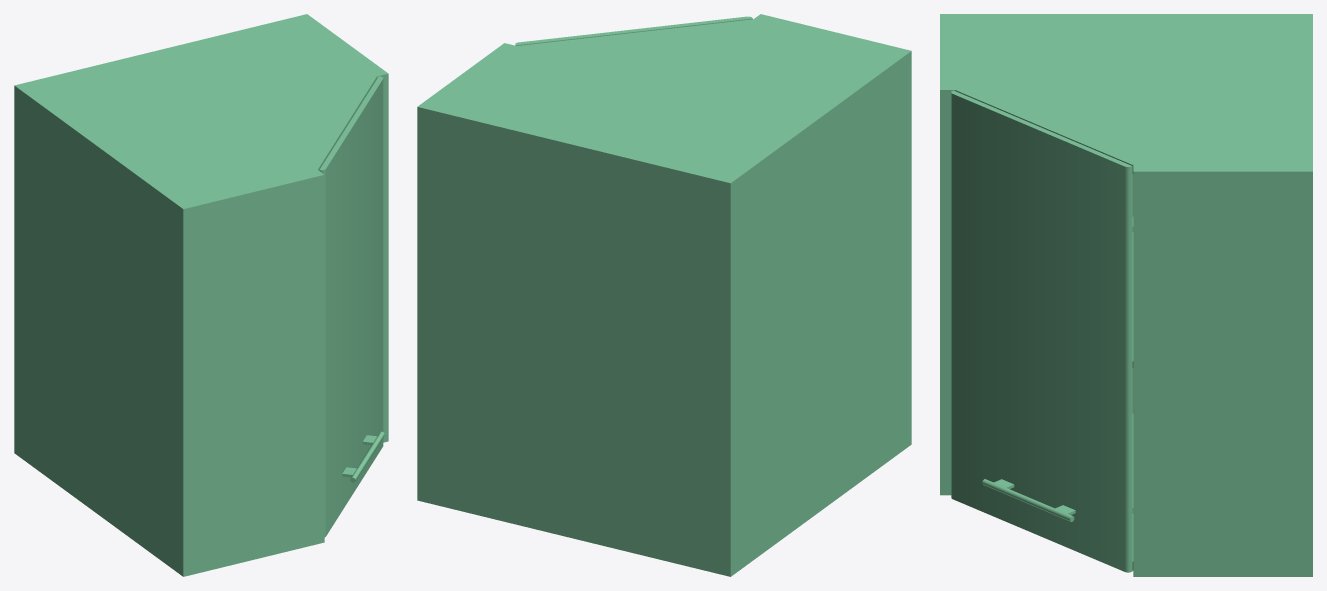
Rendered from hospital_kitchen_module_7.fbx.
3 views of the same model, side by side, from view 1: azimuth 30°, elevation 25°; view 2: azimuth 150°, elevation 25°; view 3: azimuth 270°, elevation 25° (orthographic). The views are drawn at different scales.
Visible parts, largest first — view 1: hospital_kitchen_module_7, hospital_kitchen_module_7_Door; view 2: hospital_kitchen_module_7, hospital_kitchen_module_7_Door; view 3: hospital_kitchen_module_7, hospital_kitchen_module_7_Door.
Part boxes in pixels (<box>): hospital_kitchen_module_7: <box>14,14,388,576</box>; hospital_kitchen_module_7_Door: <box>319,76,384,537</box>; hospital_kitchen_module_7: <box>417,14,911,576</box>; hospital_kitchen_module_7_Door: <box>515,16,752,45</box>; hospital_kitchen_module_7: <box>940,14,1312,576</box>; hospital_kitchen_module_7_Door: <box>951,90,1132,572</box>.
Size of the model in its own units: 60 by 72 by 60.
